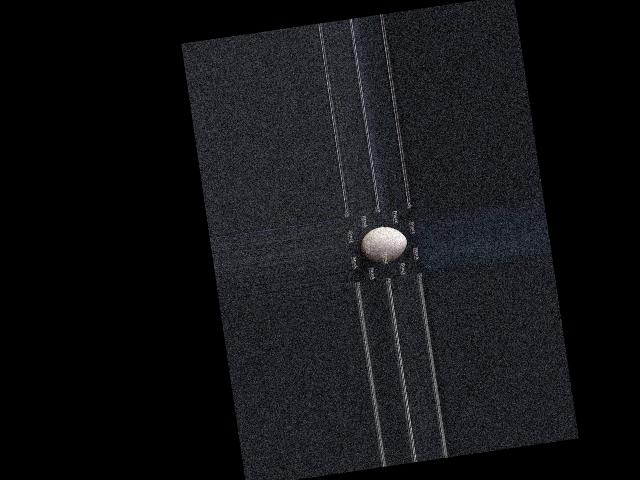egg: (358, 224, 409, 265)
